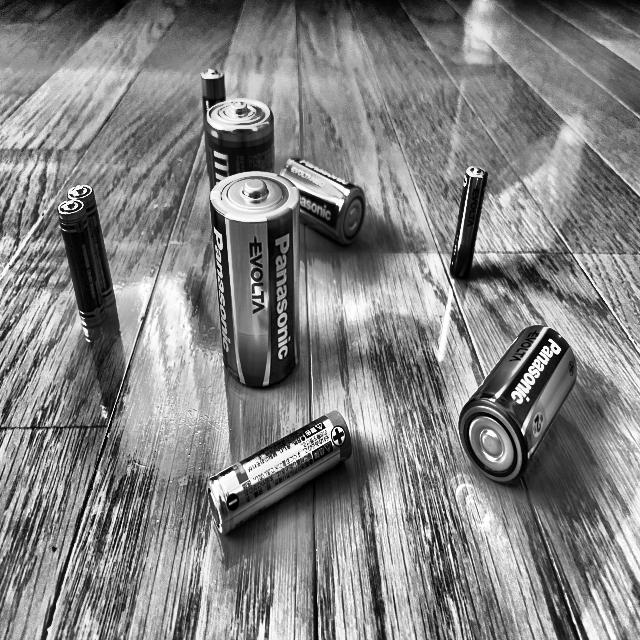drycell: (56, 196, 108, 330), (65, 183, 115, 309)
